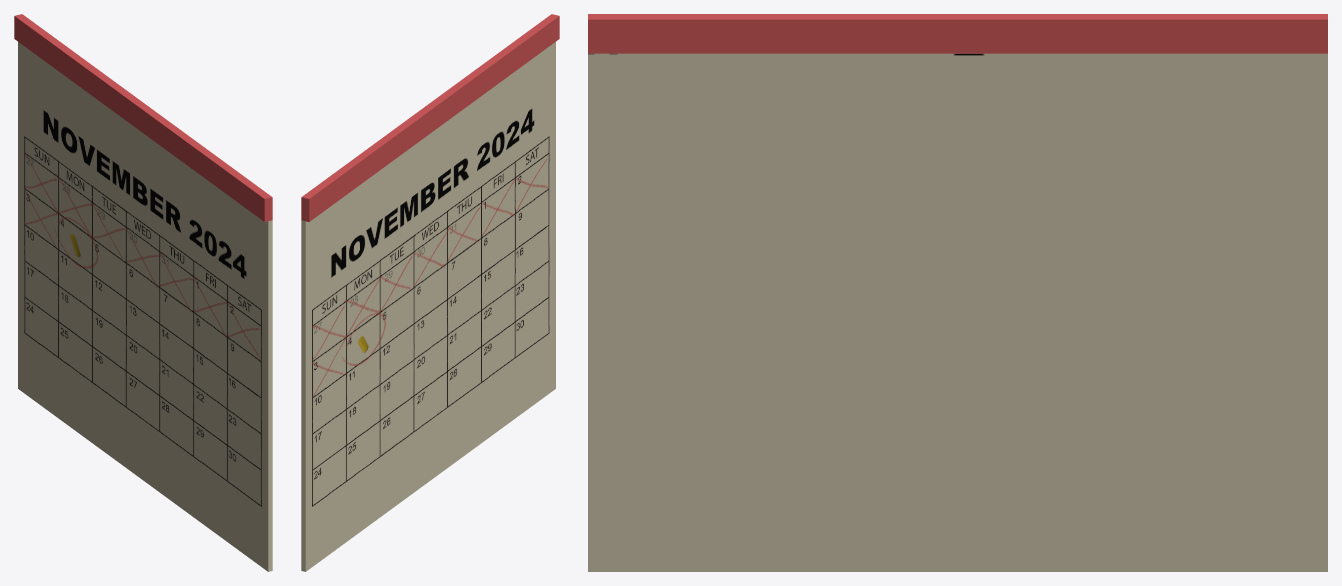
The model's file is Calender2.fbx.
3 renders of one model, left to right at view 1: azimuth 30°, elevation 25°; view 2: azimuth 150°, elevation 25°; view 3: azimuth 270°, elevation 25°, orthographic. The views are drawn at different scales.
Parts seen in each view (by area): view 1: Cube.032; view 2: Cube.032; view 3: Cube.032.
Boxes of the visible parts, x1,y1,x2,y2 form: Cube.032: [14, 14, 272, 571]; Cube.032: [301, 14, 559, 571]; Cube.032: [588, 14, 1327, 571].
Bounding box in the file's own units: 1.04 × 47.44 × 57.6.
